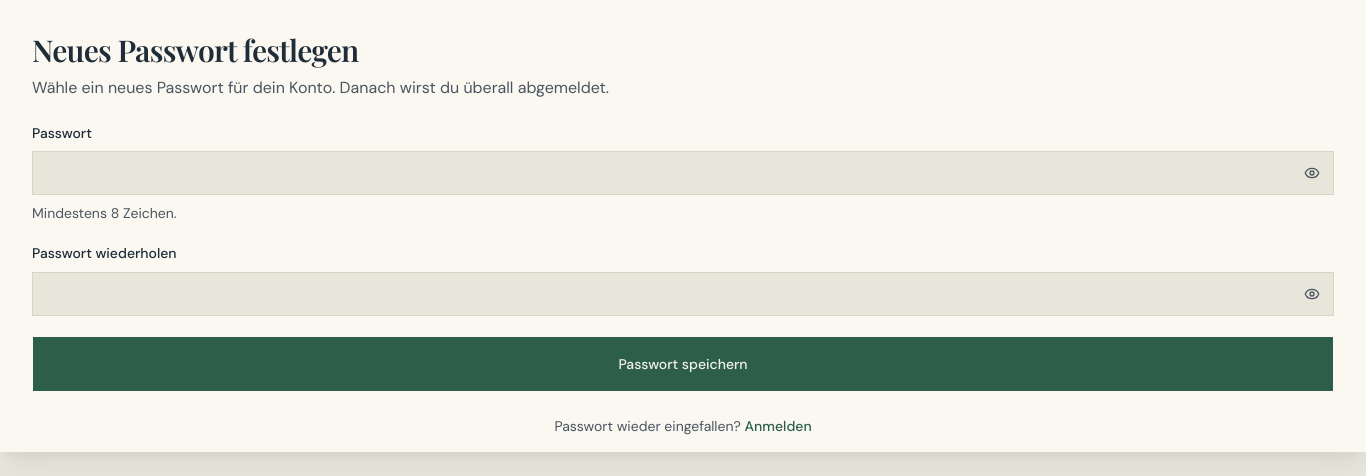
it: ResetPasswordFlow › sets the new password with the token, then points to the login
Type "brand new secret" into the password field labelled "Passwort". click: [683, 173]
box: [32, 151, 1334, 195]
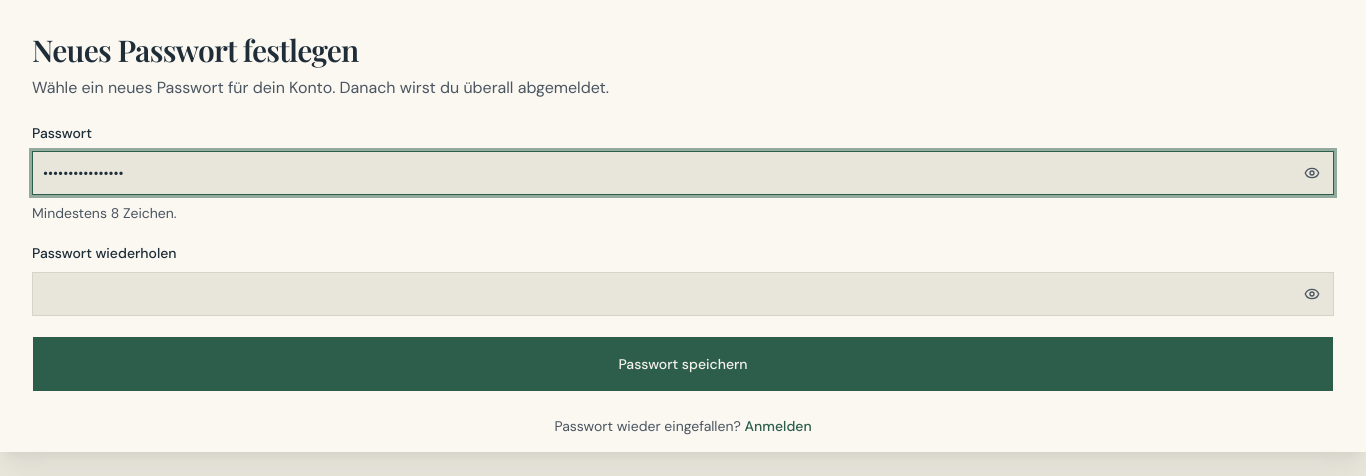
Type "brand new secret" into the password field labelled "Passwort wiederholen". click: [683, 294]
box: [32, 272, 1334, 316]
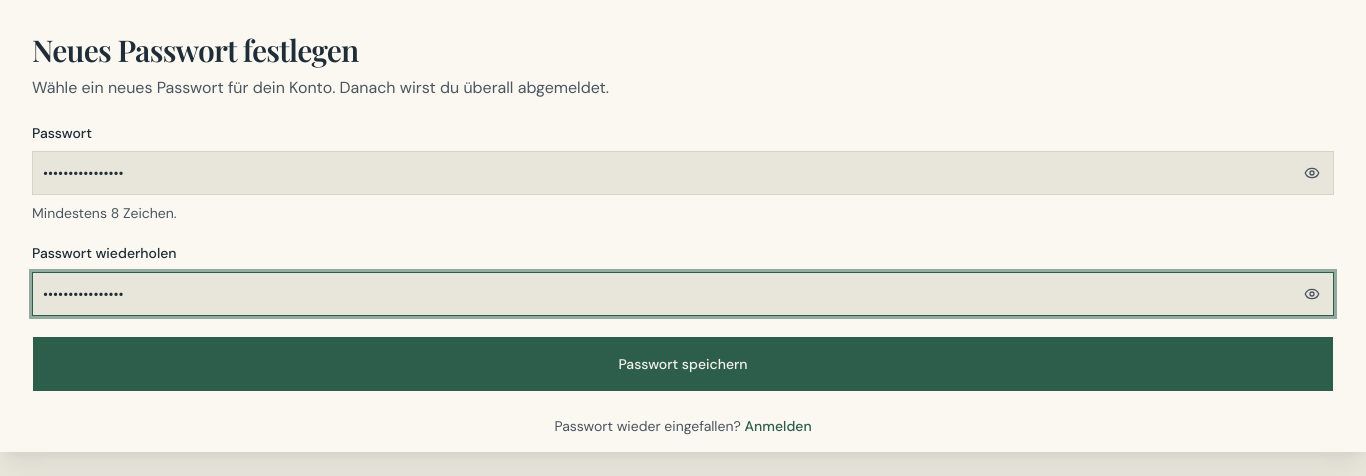
Click the button "Passwort speichern". click: [683, 364]
box: [32, 336, 1334, 392]
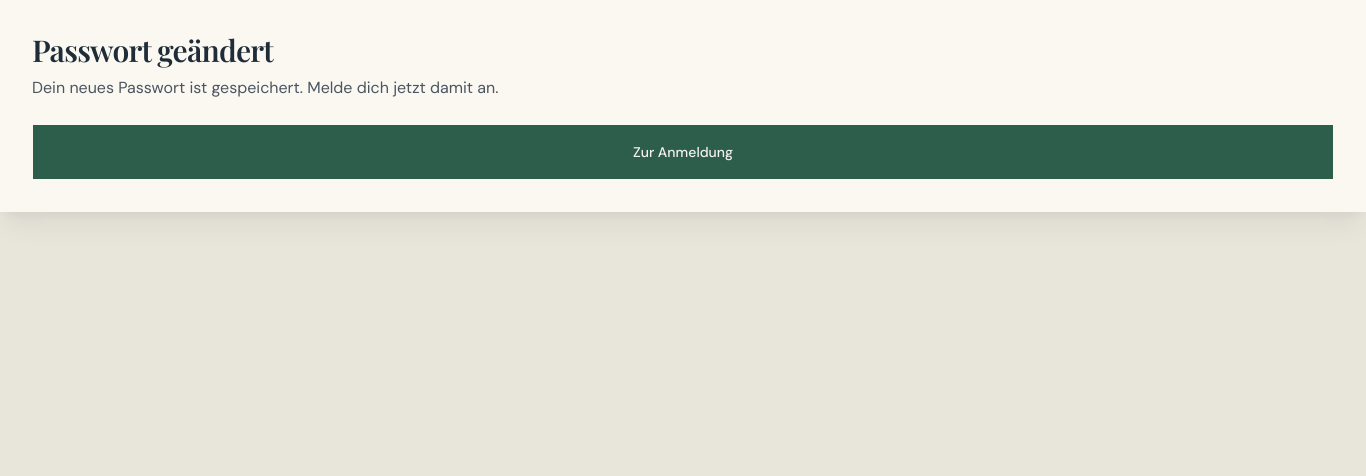
Now the heading "Passwort geändert" is shown, box [32, 30, 273, 70]
